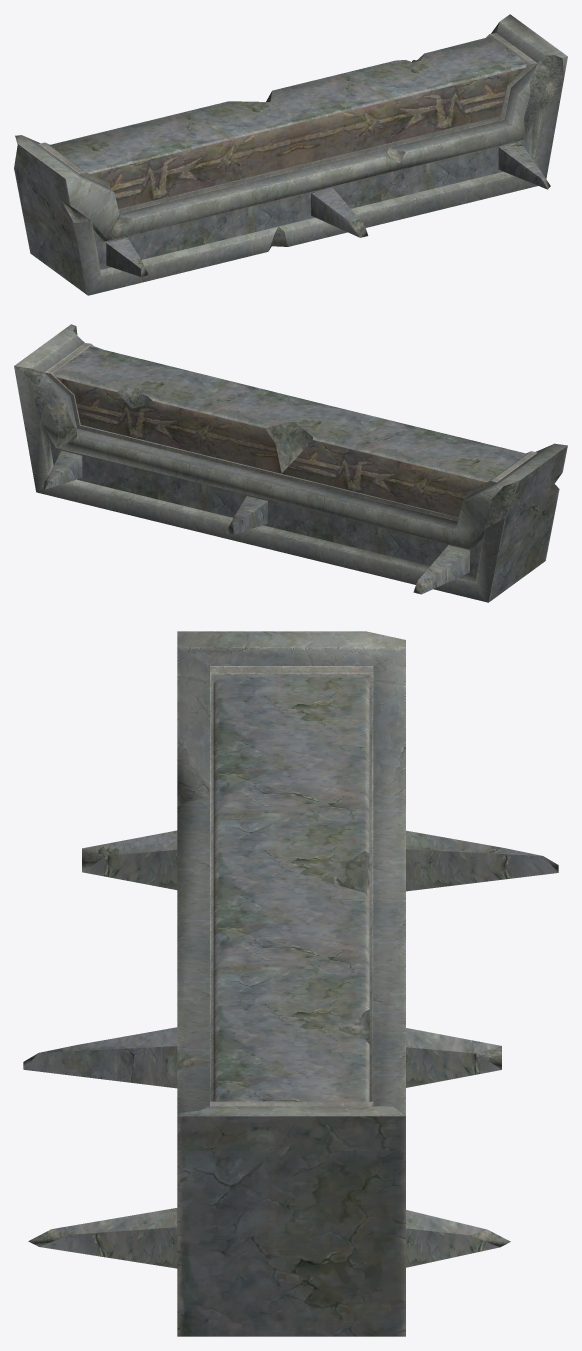
Rendered from all_arch_sith_ruins_bridge.glb.
3 renders of one model, top to bottom at view 1: azimuth 30°, elevation 25°; view 2: azimuth 150°, elevation 25°; view 3: azimuth 270°, elevation 25°, orthographic. The views are drawn at different scales.
Visible parts, largest first — view 1: all_arch_sith_ruins_bridge; view 2: all_arch_sith_ruins_bridge; view 3: all_arch_sith_ruins_bridge.
Boxes of the visible parts, x1,y1,x2,y2 form: all_arch_sith_ruins_bridge: (14, 14, 567, 295); all_arch_sith_ruins_bridge: (14, 324, 567, 602); all_arch_sith_ruins_bridge: (23, 631, 558, 1336).
Size of the model in its own units: 0.7923 by 0.1843 by 0.3695.
3 materials, 3 textured.
